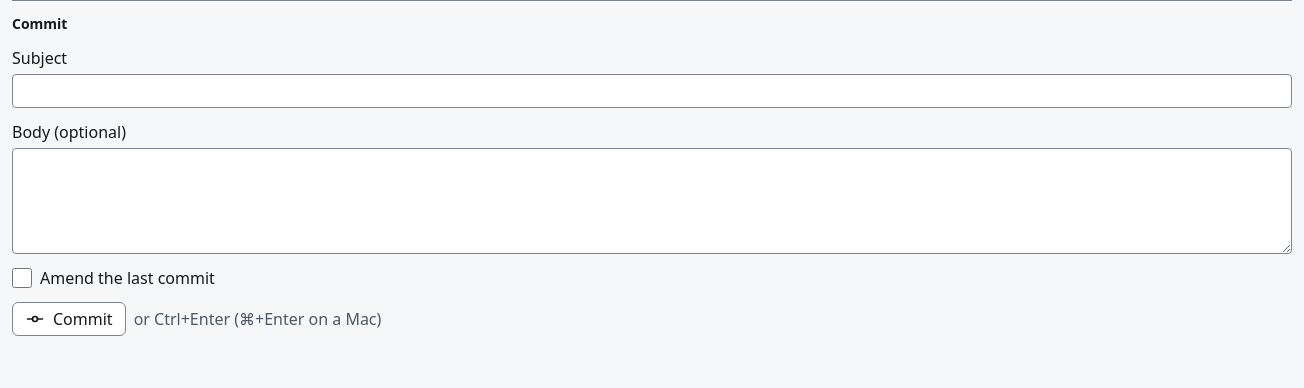
Test case: a subject and a body commit the staged changes, and the box empties for the next
This screenshot has width=1304, height=388.
Type "Stage files from the Working tree" into the field labelled "Subject" at (652, 91), box [12,74,1292,108]
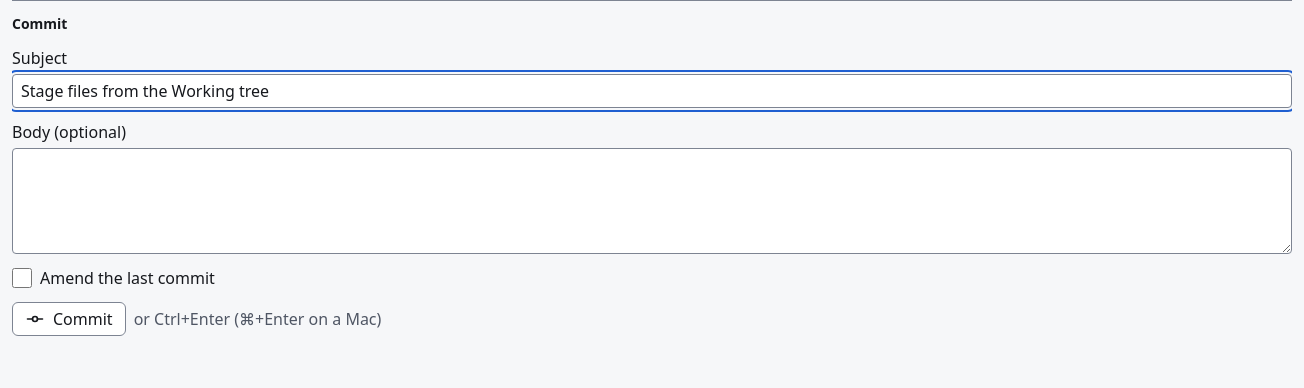
Type "One at a time, or all at once." into the text box labelled "Body (optional)" at (652, 201), box [12,148,1292,254]
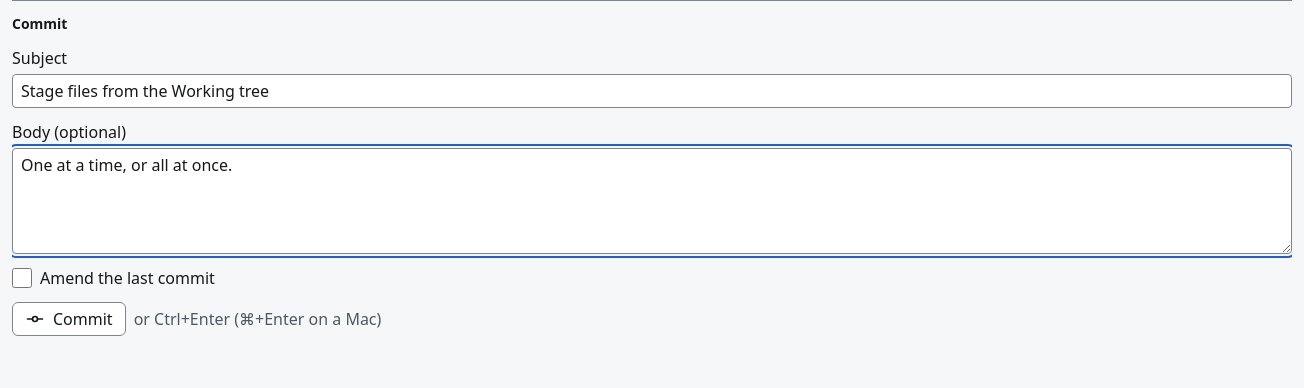
Click the button "Commit" at (69, 319), box [12,302,126,336]
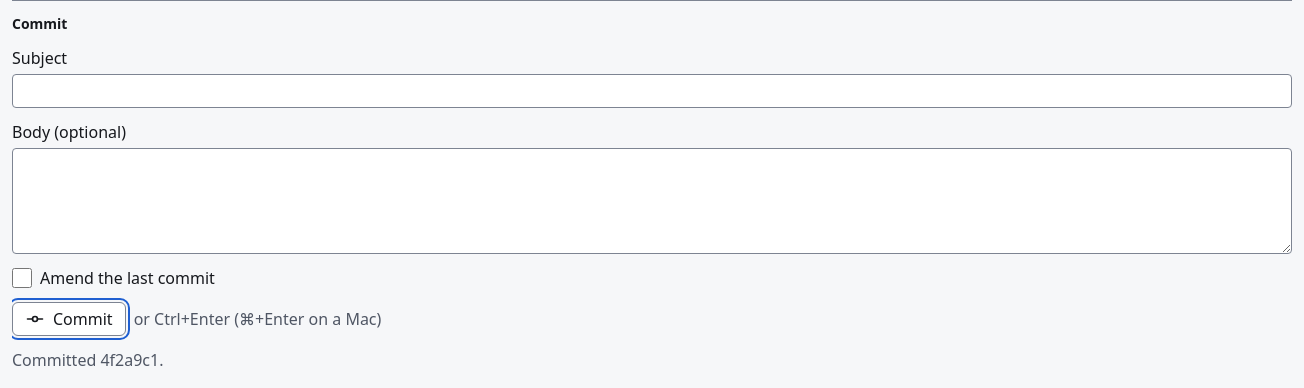
Expected: the text "Committed 4f2a9c1." is shown, [12,349,164,371]
Expected: the field labelled "Subject" is empty, [12,74,1292,108]
Expected: the text box labelled "Body (optional)" is empty, [12,148,1292,254]
